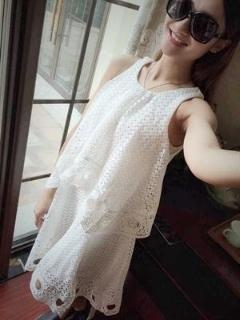skirt: (25, 159, 144, 319)
vest dress: (45, 57, 204, 238)
